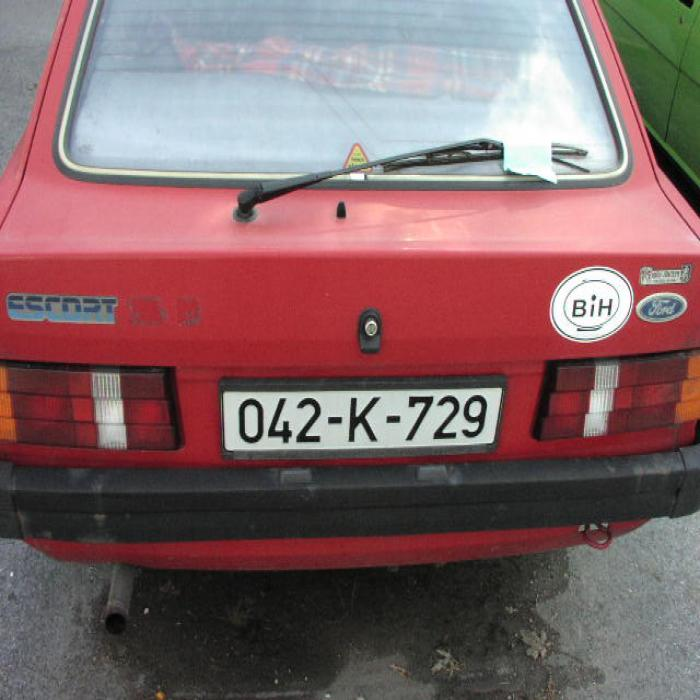number_plate: (220, 388, 492, 443)
